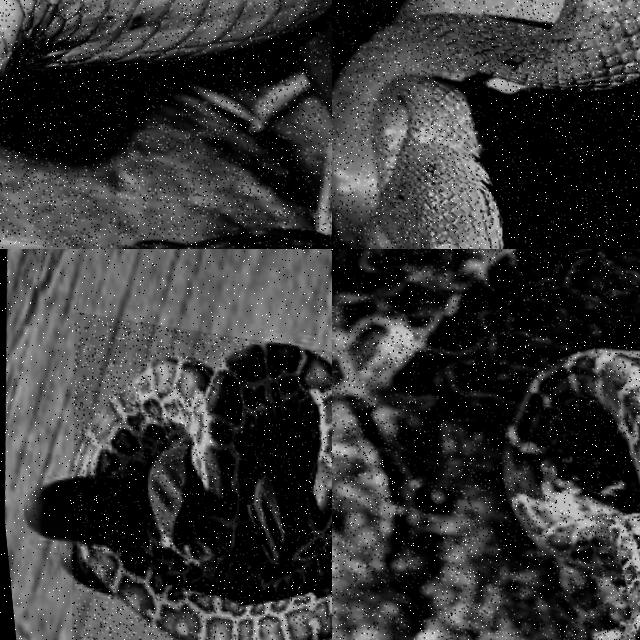Ophiophagus hannah: (0, 0, 331, 87)
Python bivittatus: (332, 249, 639, 639), (74, 343, 331, 639)
Trimeresurus macrops: (332, 0, 639, 248)
snake: (332, 249, 639, 639), (332, 0, 639, 248), (74, 343, 331, 639), (0, 0, 331, 87)
